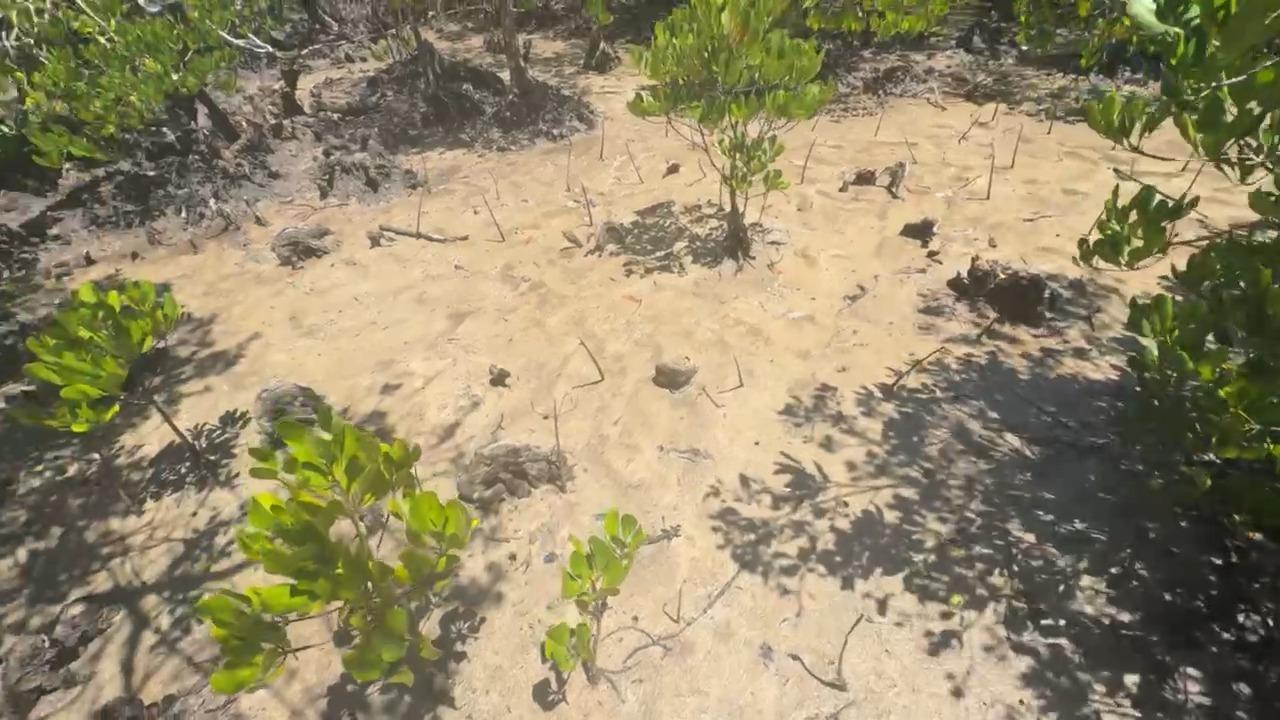Tree: (544, 508, 645, 698), (888, 346, 944, 390), (835, 613, 865, 676), (481, 193, 505, 243), (554, 400, 567, 492), (578, 338, 605, 380), (801, 137, 817, 184), (626, 143, 644, 183), (959, 114, 981, 143), (1011, 123, 1024, 170), (581, 183, 594, 226), (1088, 205, 1106, 234), (420, 152, 431, 193), (903, 136, 918, 165), (977, 317, 997, 338), (1048, 100, 1060, 134), (415, 195, 424, 238), (733, 354, 744, 388), (488, 168, 499, 199), (986, 157, 994, 199), (874, 108, 885, 136), (1181, 152, 1195, 173), (676, 587, 682, 624), (599, 121, 605, 157), (812, 111, 823, 130), (991, 98, 1000, 120), (566, 145, 570, 191), (698, 159, 707, 177), (688, 124, 694, 151)
